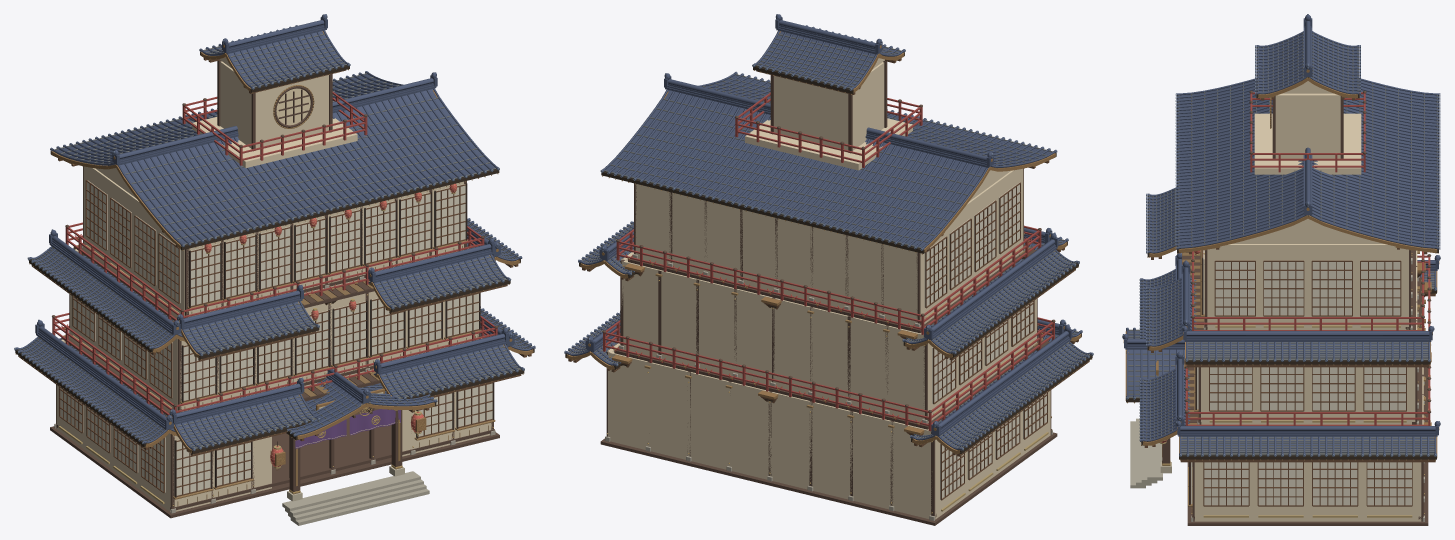
File: landmark_feihua-refined-v1.glb
The picture shows the model from 3 angles, left to right: view 1: azimuth 30°, elevation 25°; view 2: azimuth 150°, elevation 25°; view 3: azimuth 270°, elevation 25°; orthographic projection.
Parts seen in each view (by area): view 1: landmark_feihua_FH_525d77_surface, landmark_feihua_FH_e6deca_window, landmark_feihua_FH_e5d4b5_surface, landmark_feihua_FH_71533d_surface, landmark_feihua_FH_6d7070_surface, landmark_feihua_FH_655044_surface, landmark_feihua_FH_a7504a_surface, landmark_feihua_FH_41362b_surface, landmark_feihua_FH_493b32_surface, landmark_feihua_FH_b7b1a0_surface, landmark_feihua_FH_a17c51_surface, landmark_feihua_FH_a18158_surface (+7 smaller); view 2: landmark_feihua_FH_e5d4b5_surface, landmark_feihua_FH_525d77_surface, landmark_feihua_FH_a7504a_surface, landmark_feihua_FH_655044_surface, landmark_feihua_FH_6d7070_surface, landmark_feihua_FH_71533d_surface, landmark_feihua_FH_e6deca_window, landmark_feihua_FH_41362b_surface, landmark_feihua_FH_a17c51_surface, landmark_feihua_FH_65728a_surface, landmark_feihua_FH_b6afa0_surface, landmark_feihua_FH_bda572_surface; view 3: landmark_feihua_FH_525d77_surface, landmark_feihua_FH_e5d4b5_surface, landmark_feihua_FH_e6deca_window, landmark_feihua_FH_6d7070_surface, landmark_feihua_FH_71533d_surface, landmark_feihua_FH_a7504a_surface, landmark_feihua_FH_655044_surface, landmark_feihua_FH_a17c51_surface, landmark_feihua_FH_41362b_surface, landmark_feihua_FH_65728a_surface, landmark_feihua_FH_b7b1a0_surface, landmark_feihua_FH_bda572_surface (+3 smaller).
Boxes of the visible parts, left/top/right/bottom form: landmark_feihua_FH_525d77_surface: left=16, top=14, right=534, bottom=450; landmark_feihua_FH_e6deca_window: left=60, top=180, right=492, bottom=495; landmark_feihua_FH_e5d4b5_surface: left=56, top=57, right=492, bottom=511; landmark_feihua_FH_71533d_surface: left=18, top=58, right=531, bottom=496; landmark_feihua_FH_6d7070_surface: left=18, top=33, right=531, bottom=448; landmark_feihua_FH_655044_surface: left=50, top=60, right=499, bottom=518; landmark_feihua_FH_a7504a_surface: left=52, top=91, right=497, bottom=415; landmark_feihua_FH_41362b_surface: left=15, top=51, right=534, bottom=454; landmark_feihua_FH_493b32_surface: left=174, top=183, right=494, bottom=497; landmark_feihua_FH_b7b1a0_surface: left=282, top=471, right=429, bottom=525; landmark_feihua_FH_a17c51_surface: left=38, top=31, right=533, bottom=466; landmark_feihua_FH_a18158_surface: left=15, top=69, right=533, bottom=506; landmark_feihua_FH_e5d4b5_surface: left=607, top=58, right=1050, bottom=519; landmark_feihua_FH_525d77_surface: left=565, top=14, right=1091, bottom=450; landmark_feihua_FH_a7504a_surface: left=603, top=92, right=1054, bottom=431; landmark_feihua_FH_655044_surface: left=600, top=61, right=1057, bottom=525; landmark_feihua_FH_6d7070_surface: left=568, top=34, right=1089, bottom=447; landmark_feihua_FH_71533d_surface: left=568, top=58, right=1089, bottom=500; landmark_feihua_FH_e6deca_window: left=924, top=182, right=1046, bottom=499; landmark_feihua_FH_41362b_surface: left=565, top=52, right=1092, bottom=453; landmark_feihua_FH_a17c51_surface: left=566, top=31, right=1081, bottom=454; landmark_feihua_FH_65728a_surface: left=564, top=14, right=1093, bottom=450; landmark_feihua_FH_b6afa0_surface: left=605, top=249, right=1052, bottom=520; landmark_feihua_FH_bda572_surface: left=925, top=248, right=1048, bottom=511; landmark_feihua_FH_525d77_surface: left=1123, top=14, right=1439, bottom=454; landmark_feihua_FH_e5d4b5_surface: left=1194, top=81, right=1423, bottom=521; landmark_feihua_FH_e6deca_window: left=1191, top=250, right=1411, bottom=505; landmark_feihua_FH_6d7070_surface: left=1128, top=33, right=1437, bottom=455; landmark_feihua_FH_71533d_surface: left=1144, top=96, right=1435, bottom=506; landmark_feihua_FH_a7504a_surface: left=1185, top=92, right=1430, bottom=425; landmark_feihua_FH_655044_surface: left=1162, top=90, right=1431, bottom=525; landmark_feihua_FH_a17c51_surface: left=1123, top=69, right=1439, bottom=457; landmark_feihua_FH_41362b_surface: left=1126, top=48, right=1438, bottom=459; landmark_feihua_FH_65728a_surface: left=1122, top=14, right=1440, bottom=456; landmark_feihua_FH_b7b1a0_surface: left=1130, top=418, right=1162, bottom=488; landmark_feihua_FH_bda572_surface: left=1159, top=254, right=1412, bottom=517.
Size of the model in its own units: 31.95 by 32.52 by 22.49.
